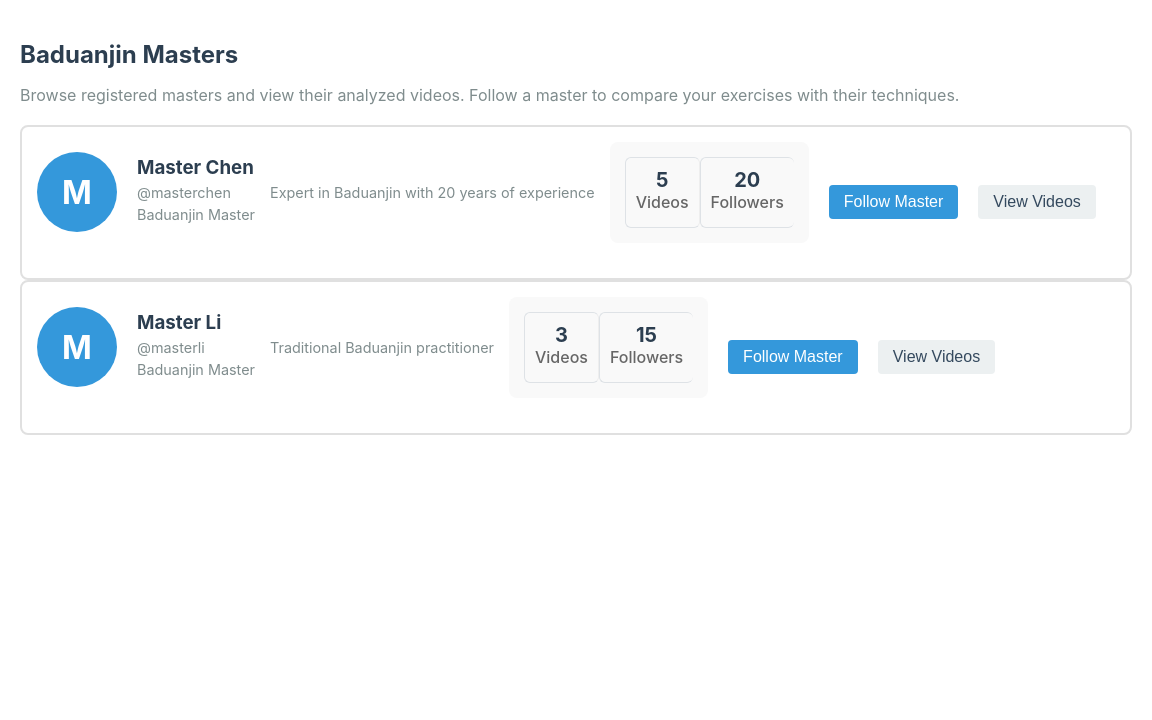
Masters Component › Error Handling and Edge Cases › should handle video with missing description
This screenshot has width=1152, height=720.
Click the button "View Videos" in the row of "masterchen" at (1037, 202), box [978,185,1096,219]
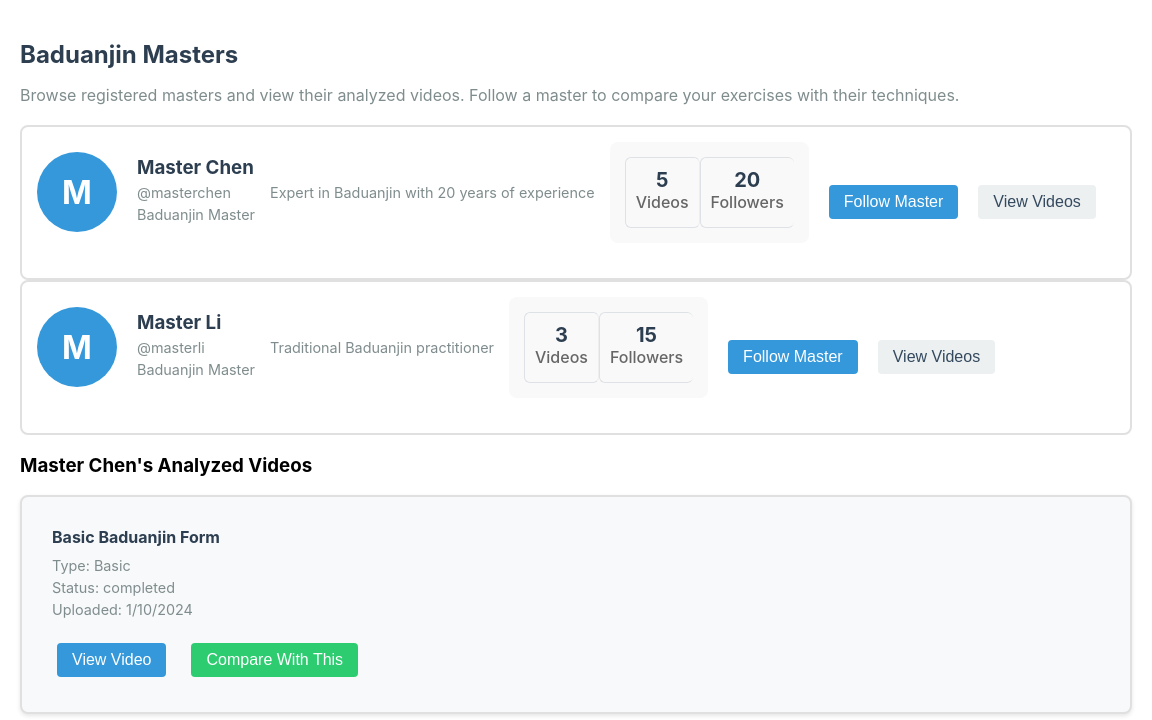
Result: the heading "Basic Baduanjin Form" is shown at [52,527,220,547]
